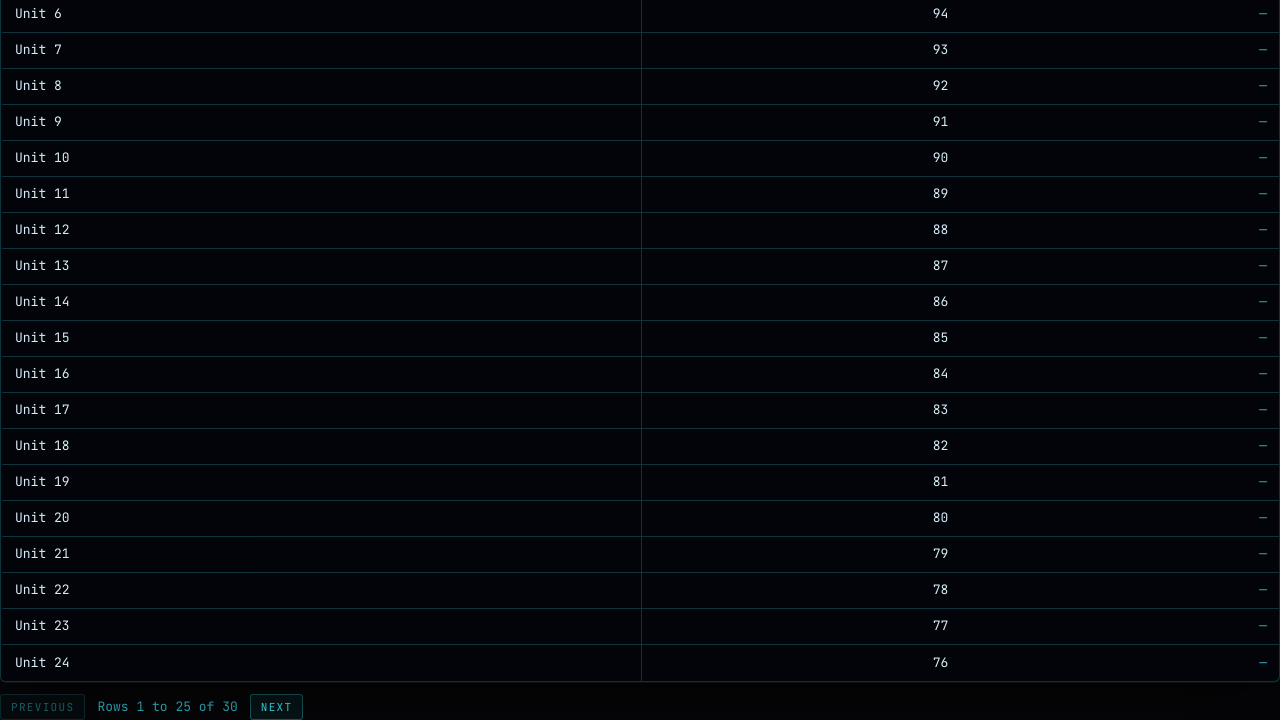
Scenario: units table › pages at 25 with the shared pager as the only count, and no "Show all"
(page scrolled)
Click the button "Next" at point(277, 707), box left=250, top=694, right=304, bottom=719
(page scrolled)
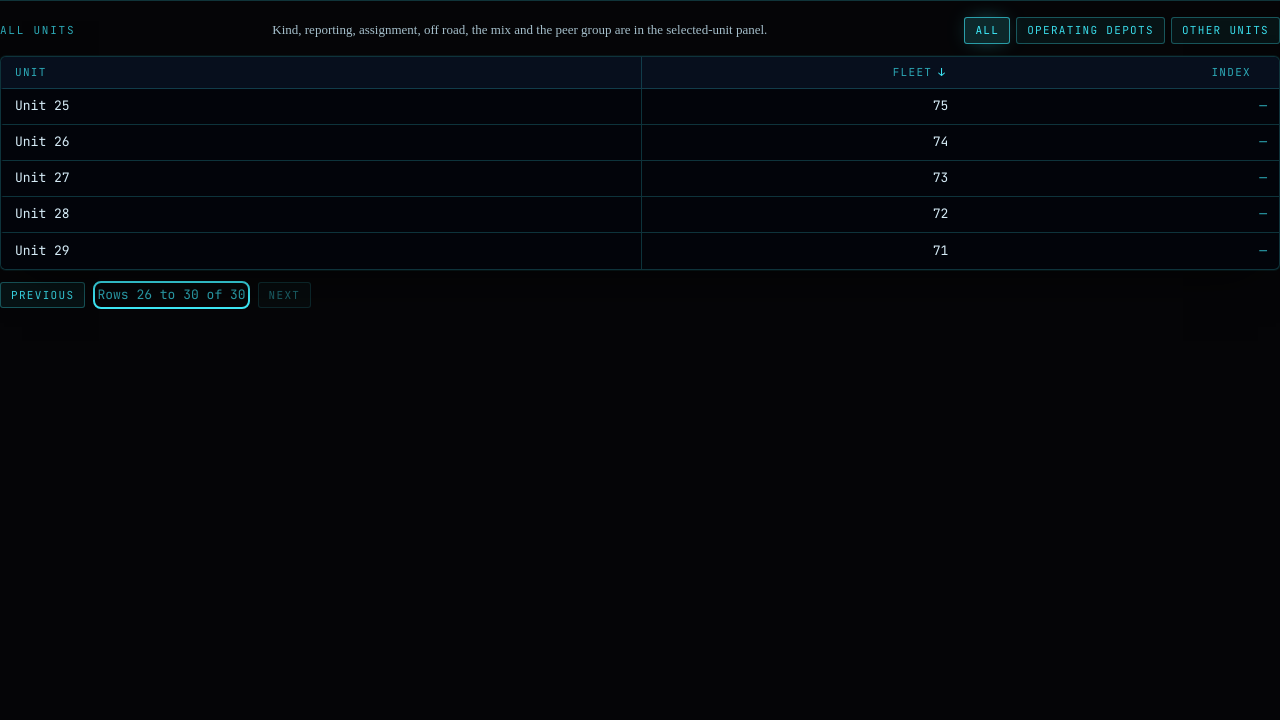
Expected: the message "Rows 26 to 30 of 30" is shown, left=97, top=285, right=246, bottom=304
